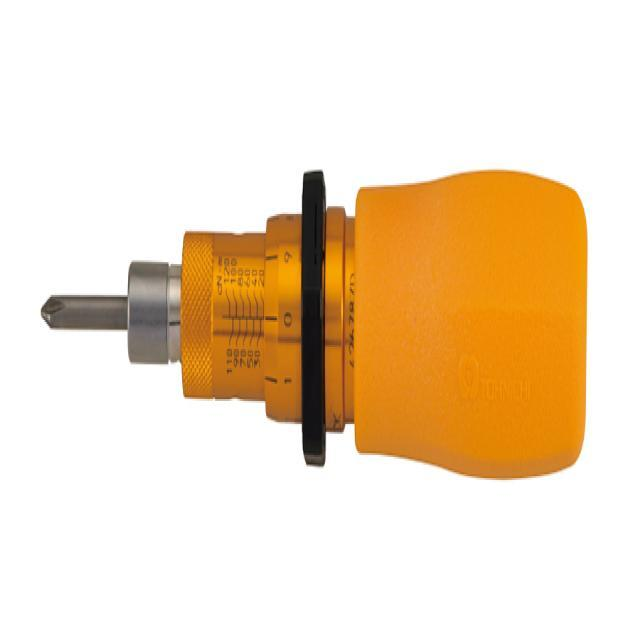screwdriver: (31, 175, 591, 482)
